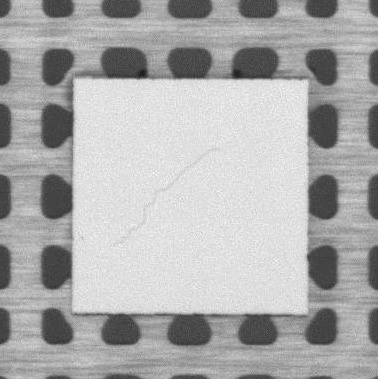DIE_INK: (78, 232, 85, 244)
